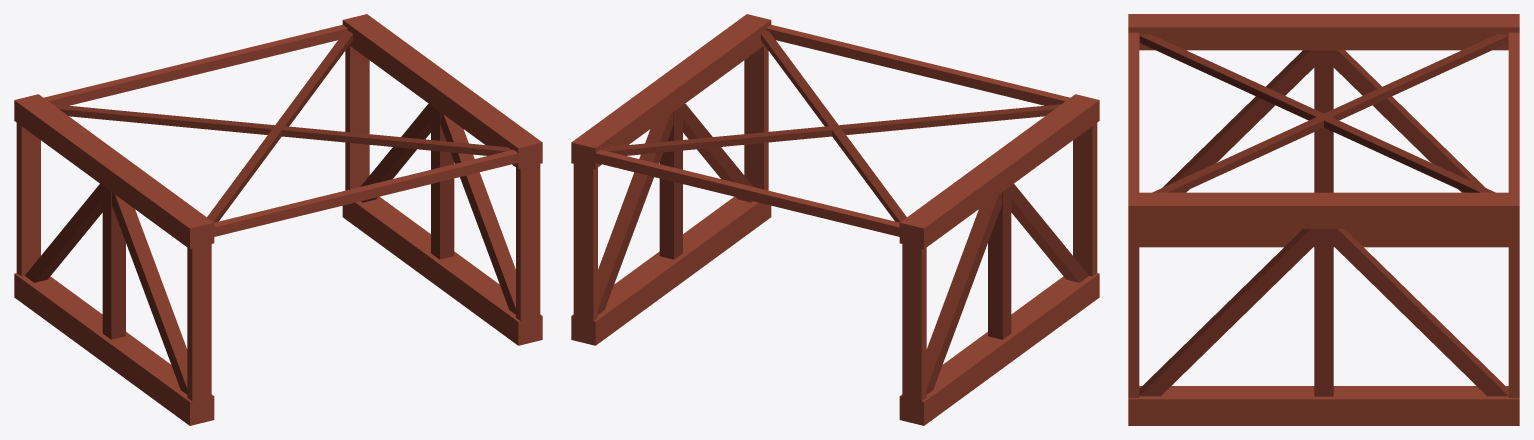
Rendered from bridge_truss.glb.
3 renders of one model, left to right at view 1: azimuth 30°, elevation 25°; view 2: azimuth 150°, elevation 25°; view 3: azimuth 270°, elevation 25°, orthographic. The views are drawn at different scales.
Visible parts, largest first — view 1: bridge_truss; view 2: bridge_truss; view 3: bridge_truss.
Part boxes in pixels (left/top/right/bottom): bridge_truss: left=14, top=14, right=542, bottom=425; bridge_truss: left=571, top=14, right=1099, bottom=425; bridge_truss: left=1128, top=14, right=1519, bottom=425.
Bounding box in the file's own units: 11.6 × 6.2 × 10.
